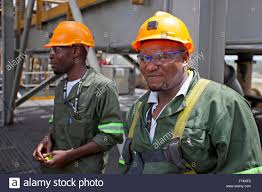Person_wearing_helmet: (128, 6, 196, 64), (41, 18, 96, 56)
